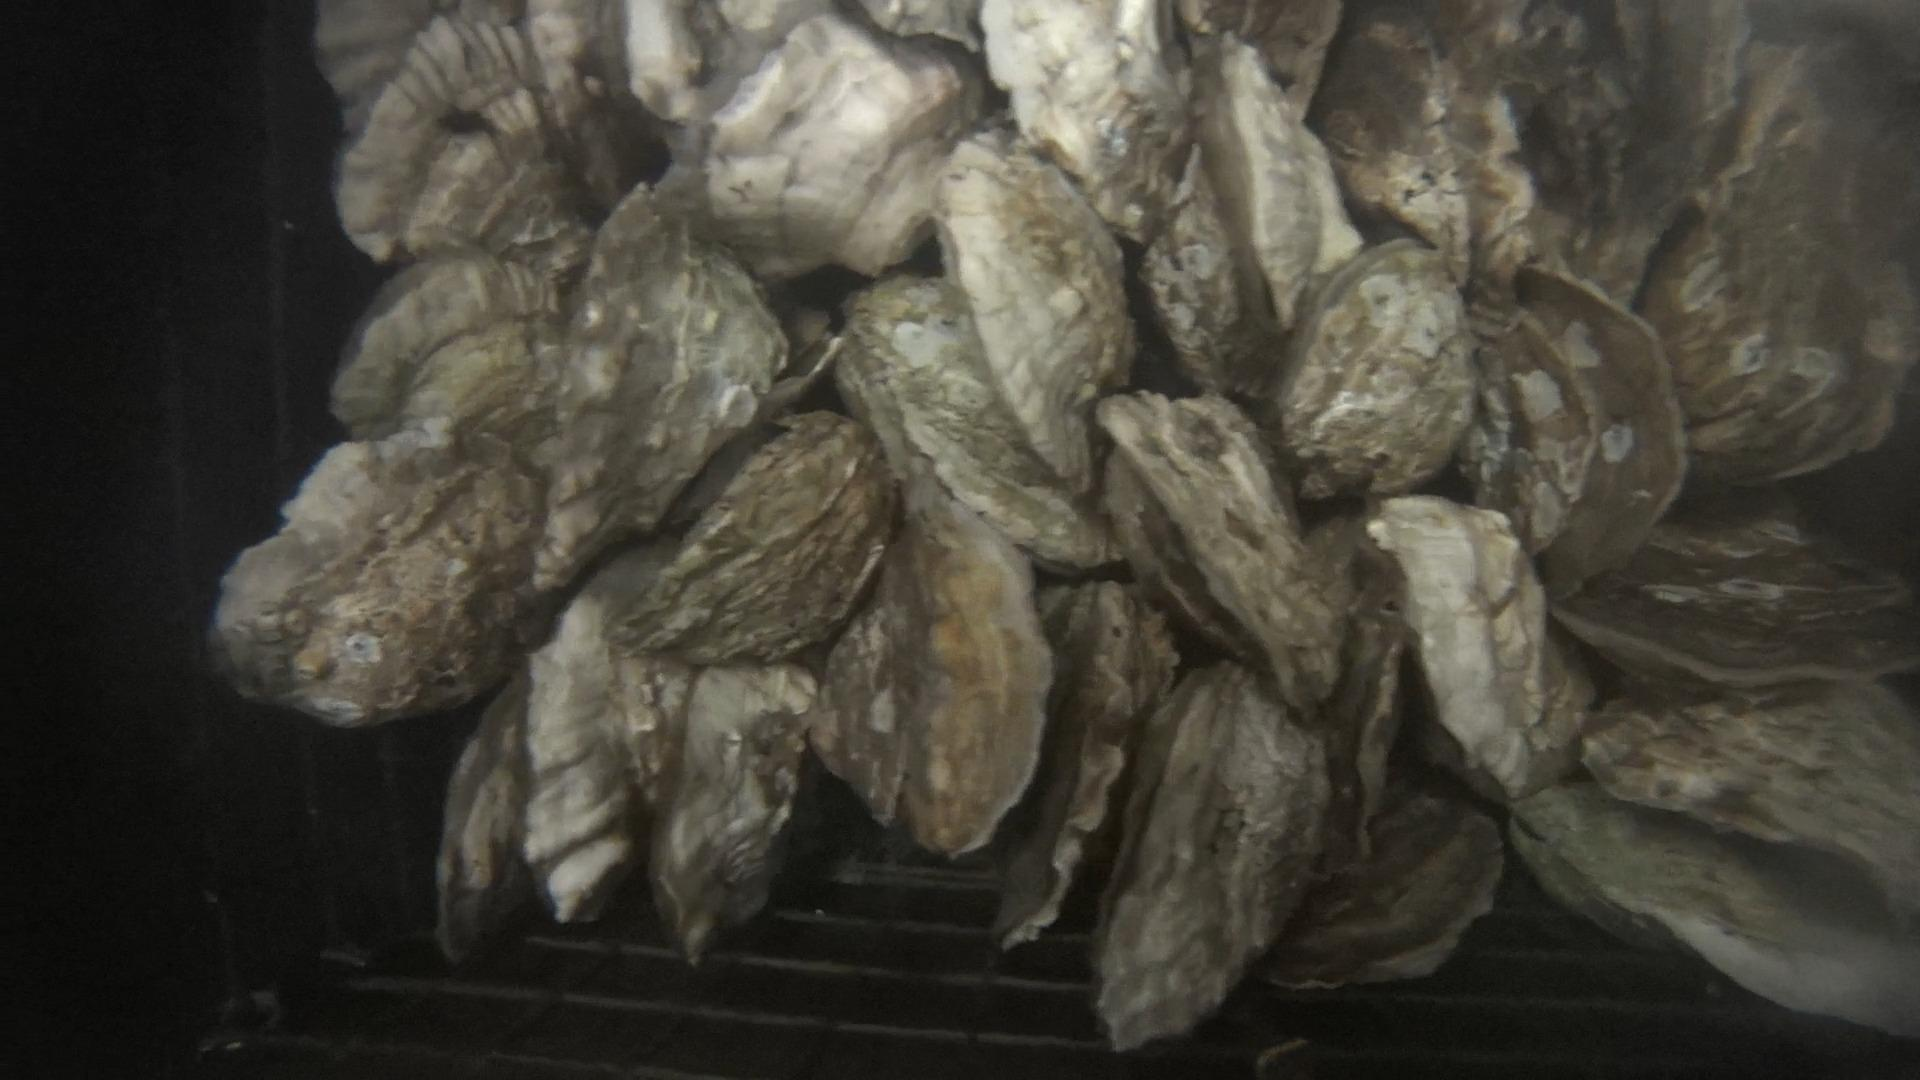3: (1084, 392, 1356, 711), (1286, 247, 1470, 495), (429, 679, 541, 956)
Oyster- Indeterminate: (1647, 5, 1920, 459), (531, 198, 785, 593), (1578, 665, 1920, 934), (216, 442, 534, 729), (1095, 670, 1312, 1043), (1462, 260, 1688, 592), (613, 413, 897, 673), (335, 17, 624, 264), (936, 131, 1135, 477), (705, 21, 963, 281), (891, 479, 1048, 860), (330, 251, 554, 472), (651, 669, 815, 956), (527, 603, 640, 920)
Oyster-Closed: (1514, 787, 1920, 1034), (833, 280, 1104, 571), (1561, 527, 1920, 676), (1263, 786, 1506, 993), (1191, 47, 1364, 319)
